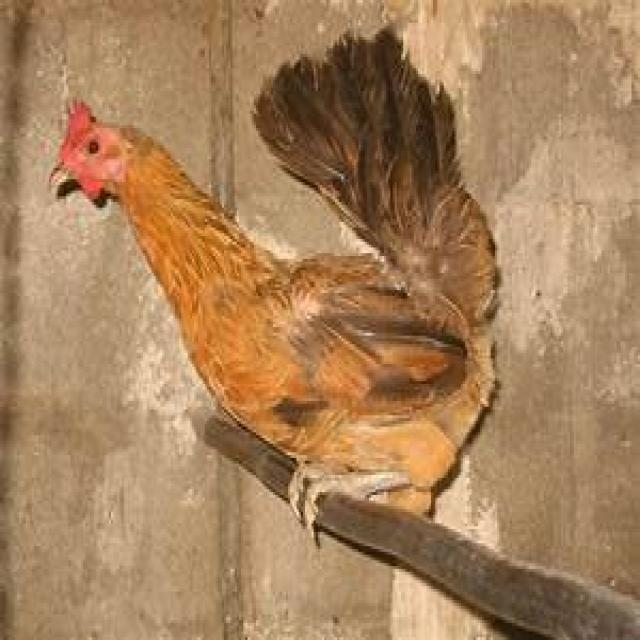animal: (47, 20, 501, 546)
